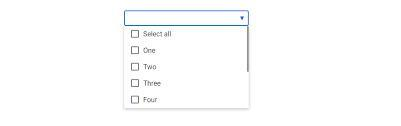checkbox: (132, 96, 140, 105), (132, 31, 140, 39), (132, 47, 140, 55), (132, 64, 140, 72), (132, 80, 140, 88)
dropdown: (125, 12, 250, 27)
label: (144, 31, 173, 39), (144, 79, 162, 88), (143, 97, 159, 104), (144, 64, 158, 72), (144, 48, 157, 55)
